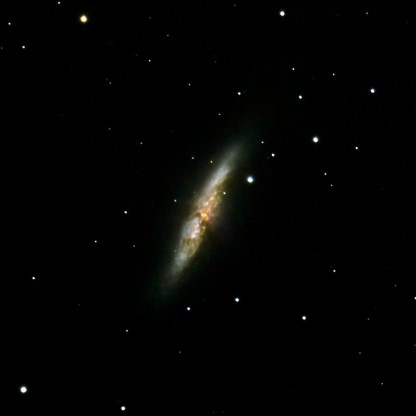Messier 82: (143, 118, 255, 294)
